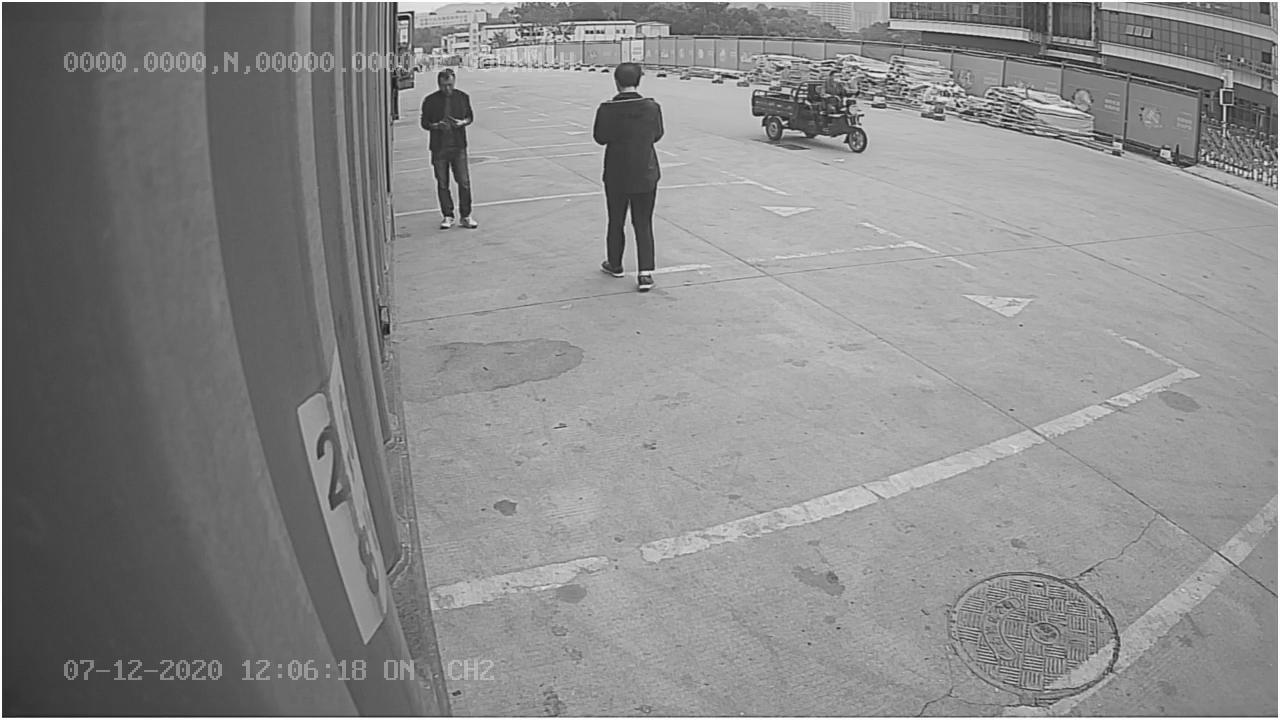person: (590, 58, 663, 290)
